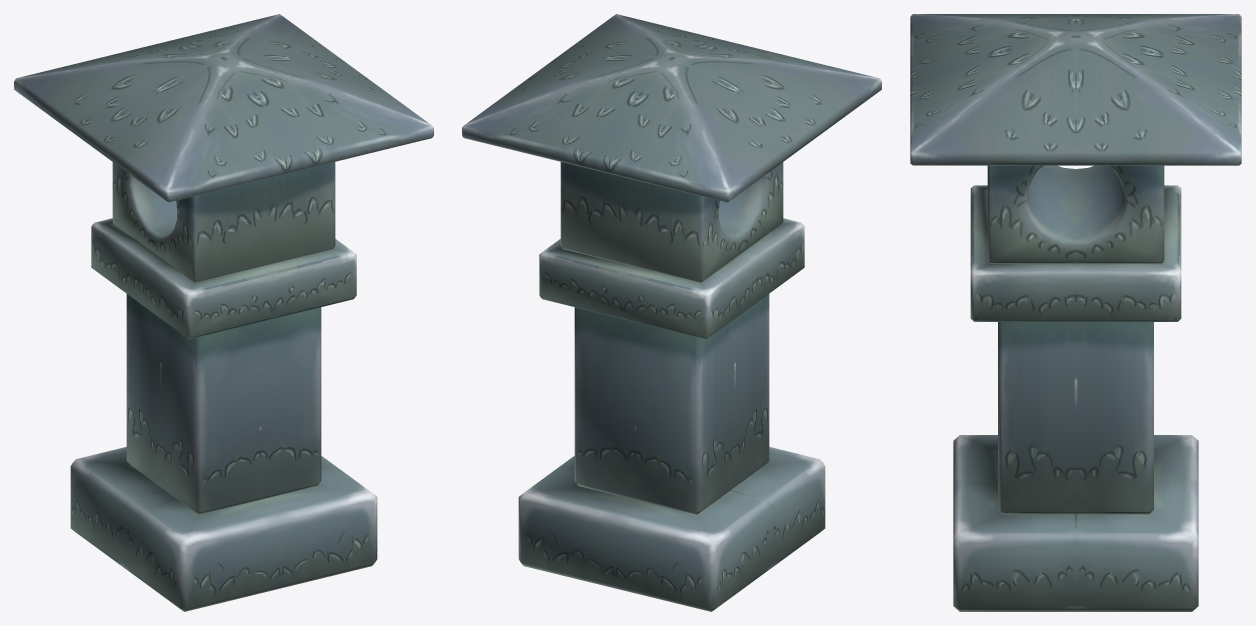
File: StonePillarNipo.dae
3 views of the same model, side by side, from view 1: azimuth 30°, elevation 25°; view 2: azimuth 150°, elevation 25°; view 3: azimuth 270°, elevation 25° (orthographic). The views are drawn at different scales.
Parts seen in each view (by area): view 1: Cube; view 2: Cube; view 3: Cube.
Boxes of the visible parts, left/top/right/bottom form: Cube: left=14, top=14, right=433, bottom=611; Cube: left=462, top=14, right=881, bottom=611; Cube: left=910, top=14, right=1241, bottom=611.
Size of the model in its own units: 2.7 by 2.7 by 4.73.
